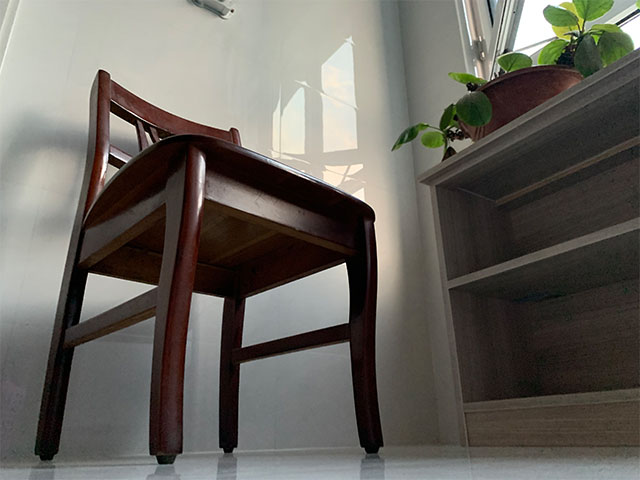stool: (33, 68, 384, 466)
